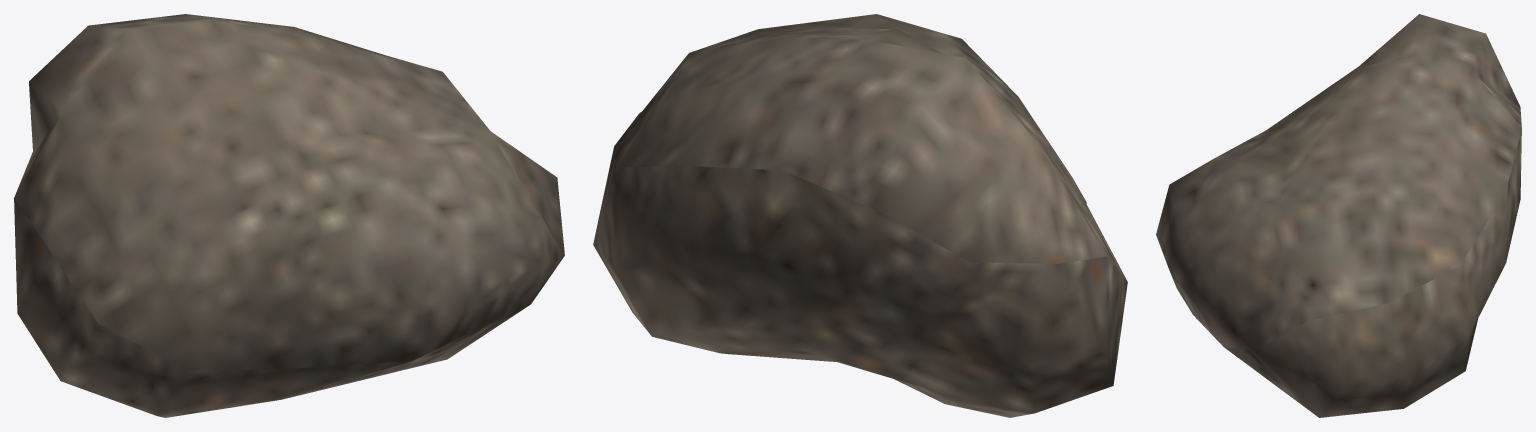
The model's file is rock_Big_001.fbx.
The picture shows the model from 3 angles, left to right: view 1: azimuth 30°, elevation 25°; view 2: azimuth 150°, elevation 25°; view 3: azimuth 270°, elevation 25°; orthographic projection. The views are drawn at different scales.
Visible parts, largest first — view 1: rock_Big.001; view 2: rock_Big.001; view 3: rock_Big.001.
Boxes of the visible parts, bbox=[...] form: rock_Big.001: bbox=[14, 14, 564, 417]; rock_Big.001: bbox=[593, 14, 1127, 417]; rock_Big.001: bbox=[1156, 14, 1521, 417].
Size of the model in its own units: 335 by 235 by 259.
Materials: 1 (1 with a texture image).
